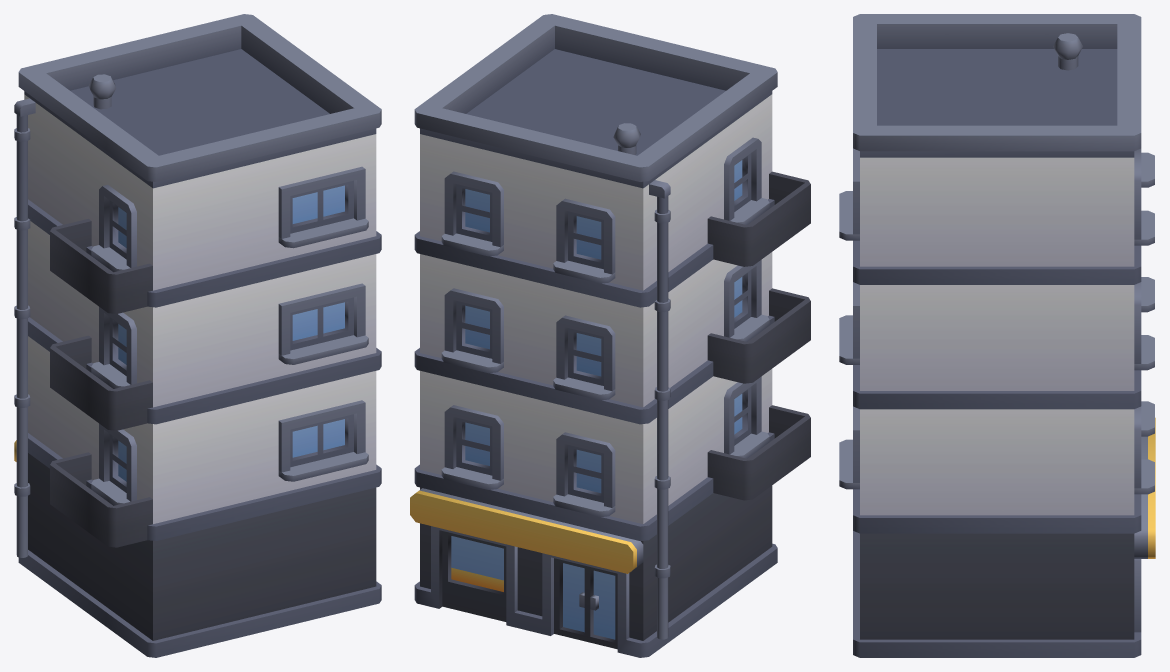
Rendered from kenney-city-commercial-building-g.glb.
The picture shows the model from 3 angles, left to right: view 1: azimuth 30°, elevation 25°; view 2: azimuth 150°, elevation 25°; view 3: azimuth 270°, elevation 25°; orthographic projection. The views are drawn at different scales.
Visible parts, largest first — view 1: building-g; view 2: building-g; view 3: building-g.
Part boxes in pixels (x1,y1,x2,y2): building-g: (14,14,381,657); building-g: (410,14,810,657); building-g: (839,14,1155,657).
Size of the model in its own units: 0.97 by 1.69 by 0.9221.
1 material, 1 textured.
